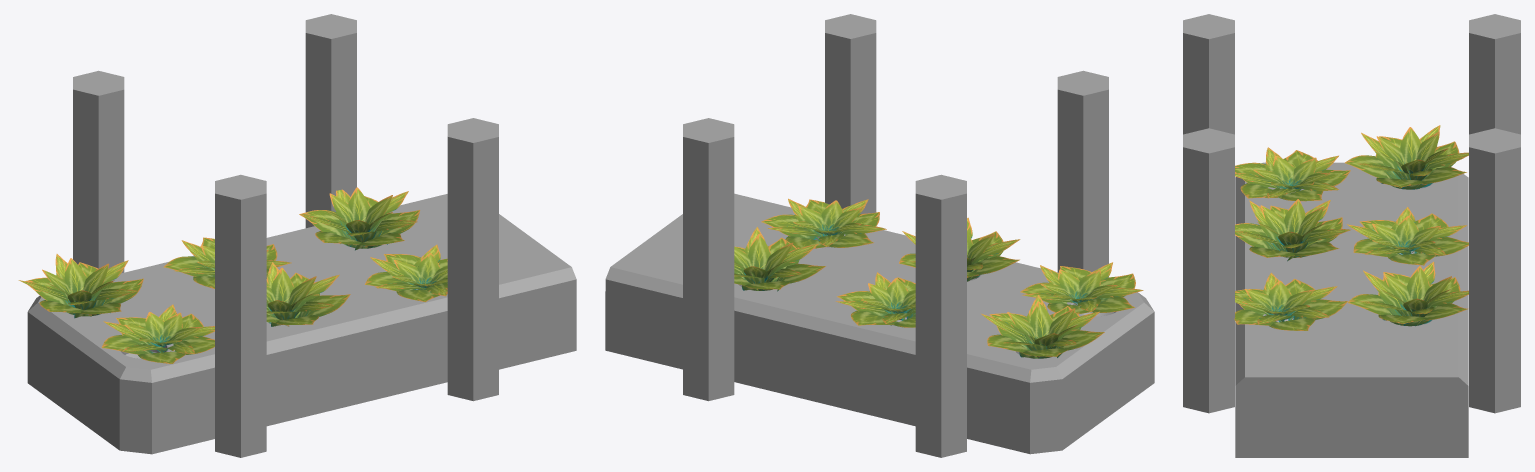
The model's file is ZontalPonics.fbx.
The picture shows the model from 3 angles, left to right: view 1: azimuth 30°, elevation 25°; view 2: azimuth 150°, elevation 25°; view 3: azimuth 270°, elevation 25°; orthographic projection.
Parts seen in each view (by area): view 1: TowerandSupp, Plant1, Plant4, Plant3, Plant5, Plant2, Plant6; view 2: TowerandSupp, Plant4, Plant2, Plant3, Plant1, Plant6, Plant5; view 3: TowerandSupp, Plant4, Plant1, Plant5, Plant6, Plant3, Plant2.
Part boxes in pixels (x1,y1,x2,y2): TowerandSupp: [27, 14, 576, 457]; Plant1: [299, 187, 420, 250]; Plant4: [18, 254, 143, 318]; Plant3: [101, 304, 214, 363]; Plant5: [266, 262, 350, 326]; Plant2: [365, 244, 447, 302]; Plant6: [163, 237, 291, 288]; TowerandSupp: [605, 14, 1154, 457]; Plant4: [981, 295, 1104, 358]; Plant2: [761, 198, 886, 248]; Plant3: [1020, 262, 1143, 314]; Plant1: [734, 227, 825, 291]; Plant6: [835, 272, 915, 327]; Plant5: [899, 217, 1020, 281]; TowerandSupp: [1183, 14, 1520, 457]; Plant4: [1345, 125, 1468, 189]; Plant1: [1347, 261, 1468, 326]; Plant5: [1235, 199, 1351, 261]; Plant6: [1347, 207, 1468, 265]; Plant3: [1235, 147, 1350, 201]; Plant2: [1234, 272, 1347, 330].
Bounding box in the file's own units: 86.62 × 45.64 × 53.75.
